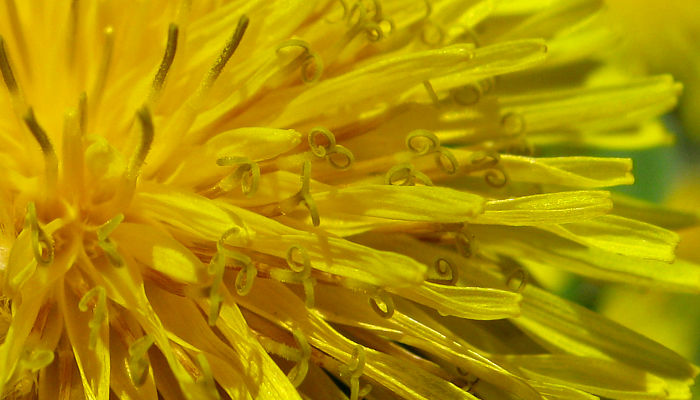dandelion: (2, 1, 690, 400)
